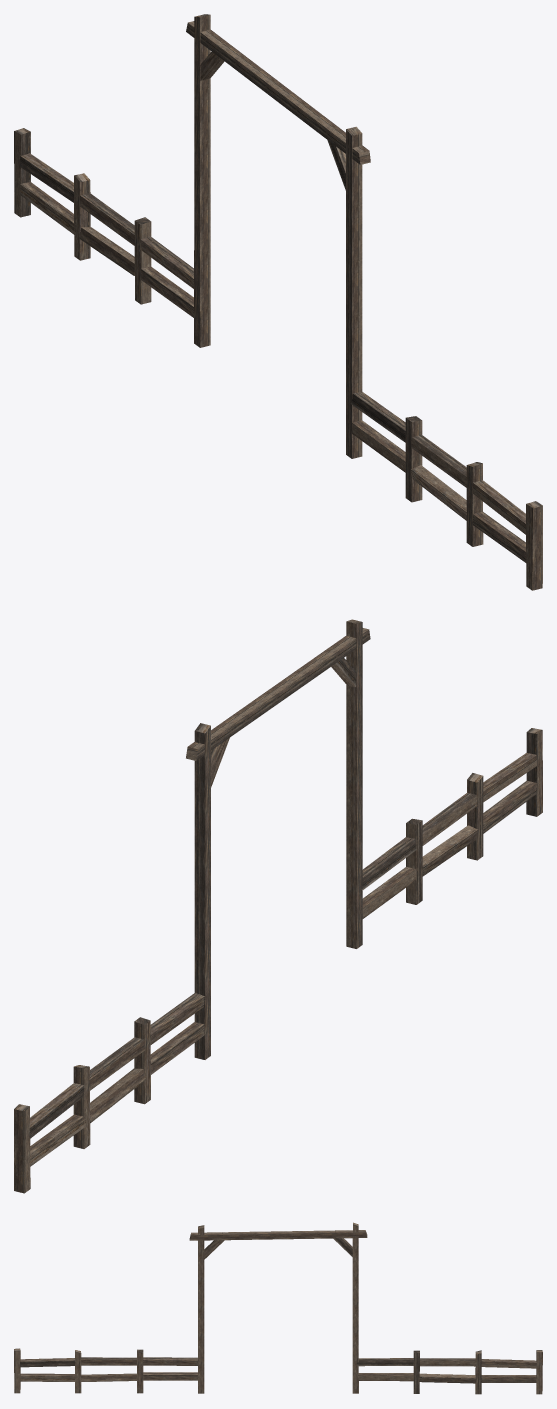
Rendered from Arco.obj.
3 views of the same model, one above another, from view 1: azimuth 30°, elevation 25°; view 2: azimuth 150°, elevation 25°; view 3: azimuth 270°, elevation 25° (orthographic). The views are drawn at different scales.
Visible parts, largest first — view 1: fenceandgate:WoodLogPlank; view 2: fenceandgate:WoodLogPlank; view 3: fenceandgate:WoodLogPlank.
Part boxes in pixels (x1,y1,x2,y2): fenceandgate:WoodLogPlank: [14, 14, 542, 590]; fenceandgate:WoodLogPlank: [14, 619, 542, 1193]; fenceandgate:WoodLogPlank: [14, 1222, 542, 1394].
Bounding box in the file's own units: 0.2325 × 6.04 × 17.11.
